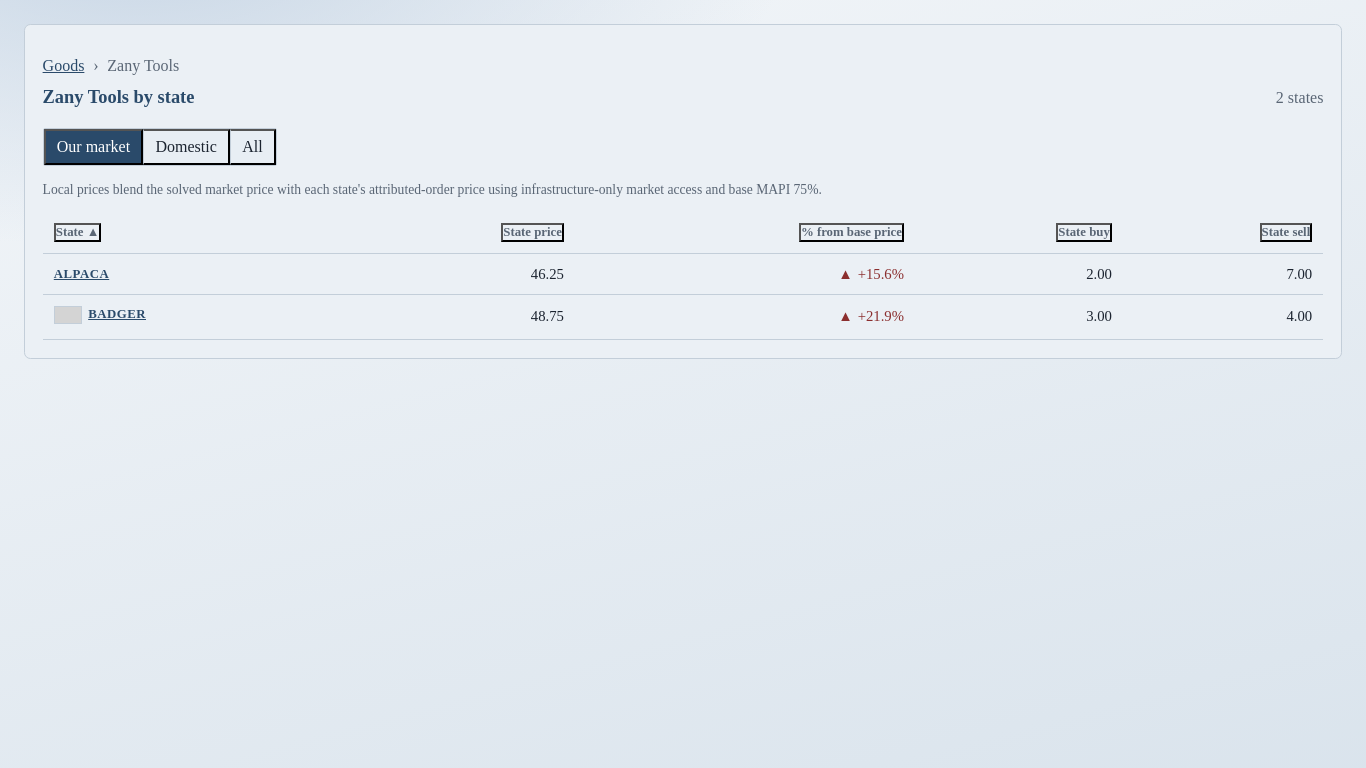
Test case: PriceExplorer › switches list scope and keeps state pages unfiltered
Click the button "Domestic": [187, 147] box [143,129,230,165]
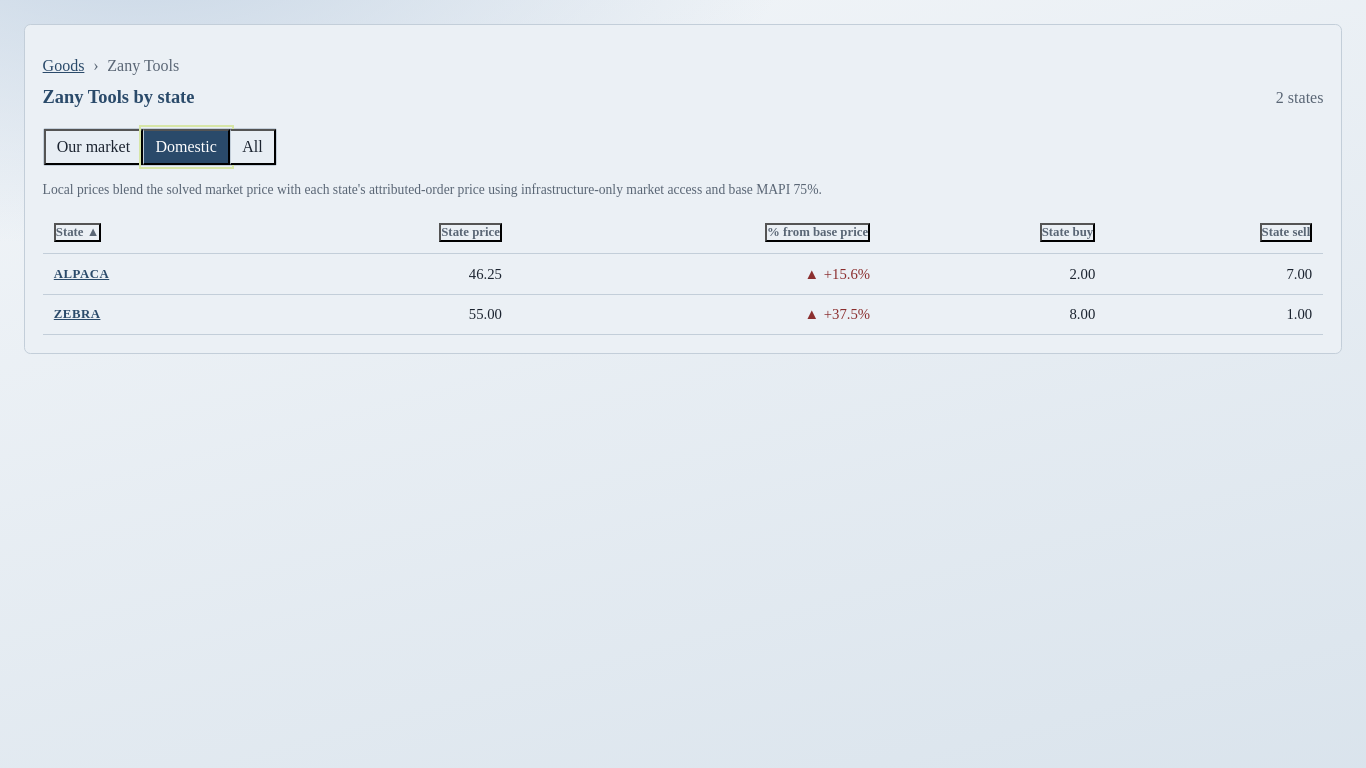
Expected: the link "Alpaca" is shown, [54,266,109,282]
Expected: the link "Zebra" is shown
Expected: the link "Badger" is gone
Click the link "Zebra": [77, 314] box [54,307,100,322]
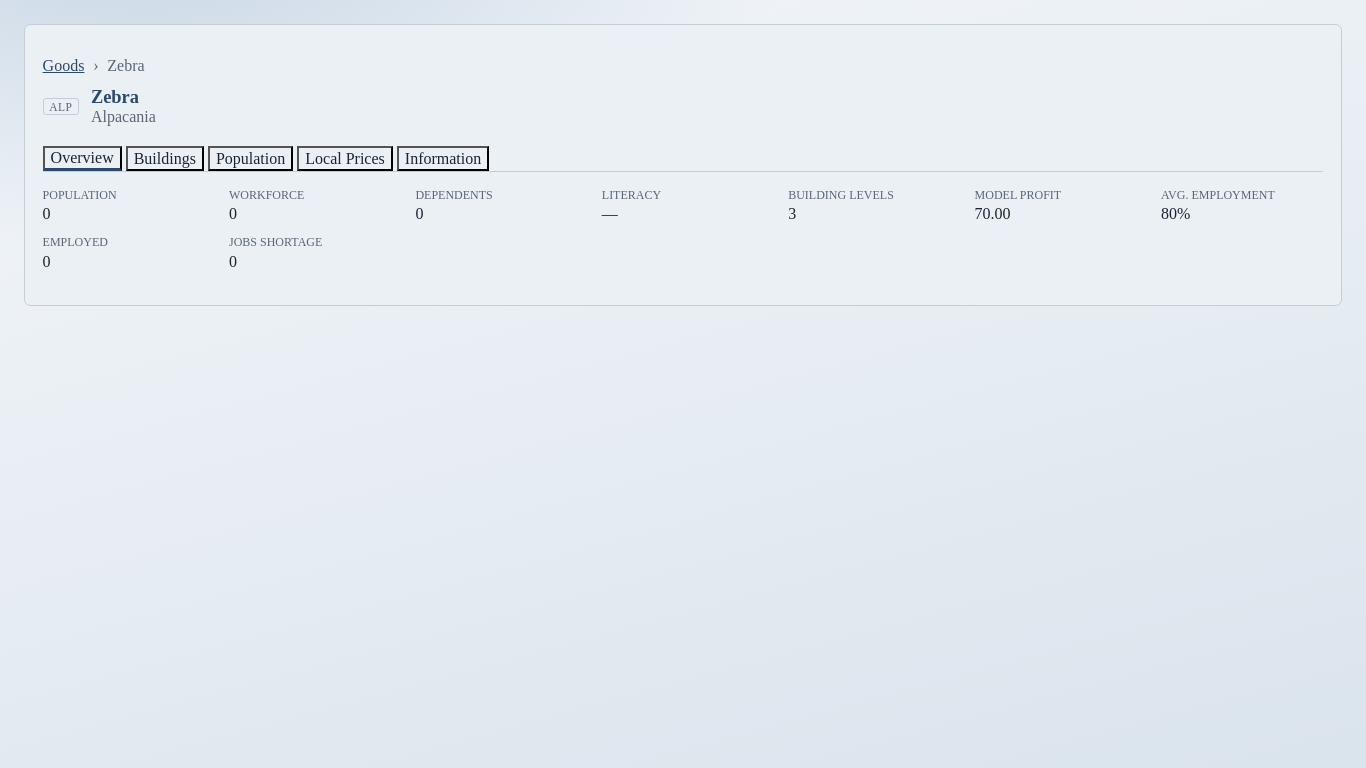
Click the tab "Buildings": [165, 158] box [126,146,204,171]
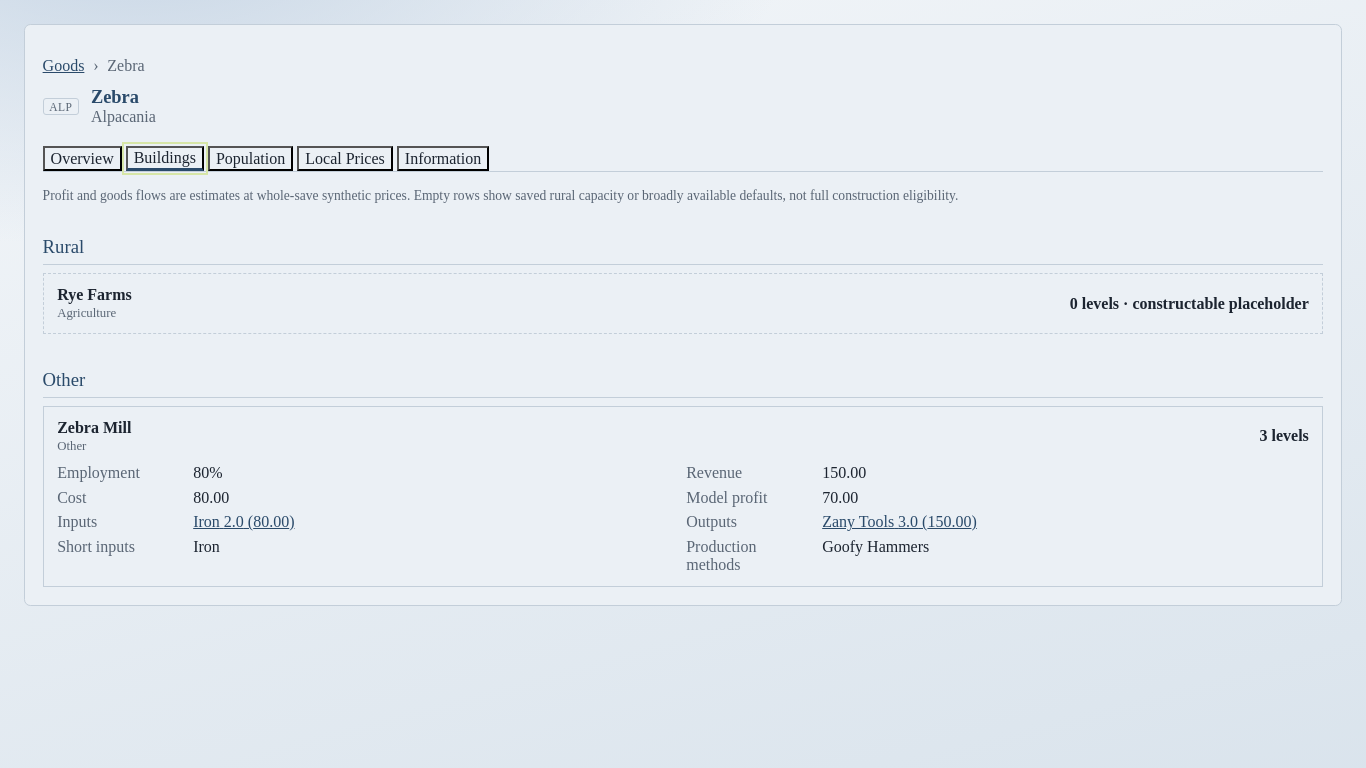
Expected: the button "Our market" is not shown
Expected: the text "Zebra Mill" is shown, [57,419,131,437]
